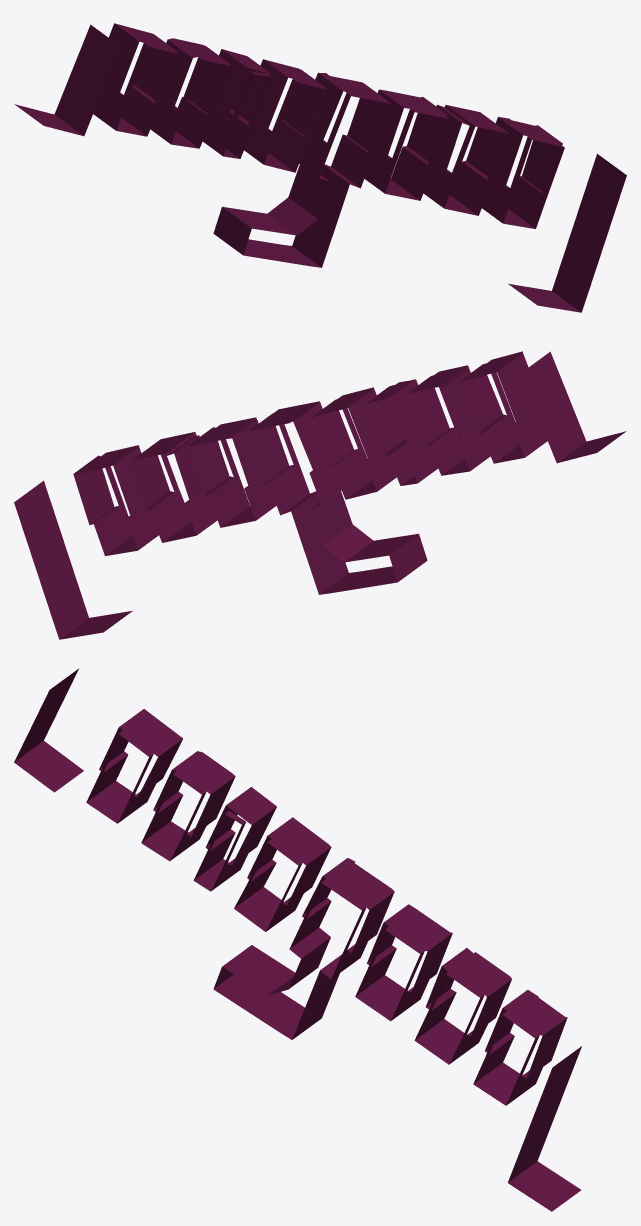
The model's file is Wall_Hini_6.0_Slope_3.0.obj.
The picture shows the model from 3 angles, top to bottom: view 1: azimuth 30°, elevation 25°; view 2: azimuth 150°, elevation 25°; view 3: azimuth 330°, elevation 25°; orthographic projection.
Visible parts, largest first — view 1: 4, 1, 8, 2, 3, 10, 6, 7, 5, 9; view 2: 4, 8, 1, 3, 2, 10, 6, 7, 5, 9; view 3: 4, 2, 3, 10, 6, 8, 7, 1, 5, 9.
Boxes of the visible parts, x1,y1,x2,y2 form: 4: [213, 72, 391, 267]; 1: [508, 153, 626, 312]; 8: [93, 23, 178, 136]; 2: [364, 89, 449, 200]; 3: [423, 104, 509, 215]; 10: [482, 117, 564, 228]; 6: [244, 59, 328, 172]; 7: [150, 38, 231, 148]; 5: [202, 49, 272, 158]; 9: [14, 24, 120, 136]; 4: [246, 401, 427, 594]; 8: [458, 351, 547, 463]; 1: [14, 480, 132, 639]; 3: [129, 432, 217, 542]; 2: [188, 417, 276, 527]; 10: [73, 445, 158, 555]; 6: [309, 387, 396, 499]; 7: [405, 365, 490, 475]; 5: [364, 379, 438, 485]; 9: [520, 351, 626, 463]; 4: [213, 858, 394, 1039]; 2: [355, 904, 452, 1021]; 3: [414, 948, 511, 1064]; 10: [473, 990, 567, 1105]; 6: [234, 817, 331, 931]; 8: [86, 709, 183, 823]; 7: [141, 751, 235, 861]; 1: [508, 1046, 581, 1211]; 5: [193, 787, 276, 891]; 9: [14, 668, 83, 792].
Size of the model in its own units: 135 by 88.5 by 12.
